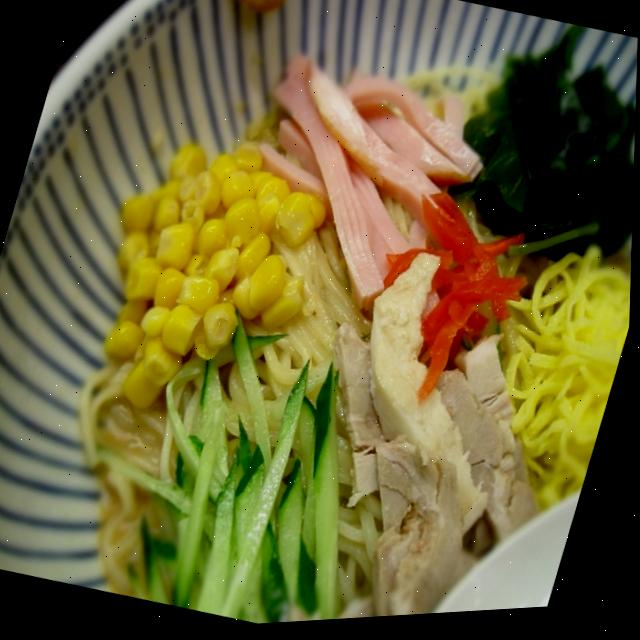面条主食: (15, 0, 640, 639)
